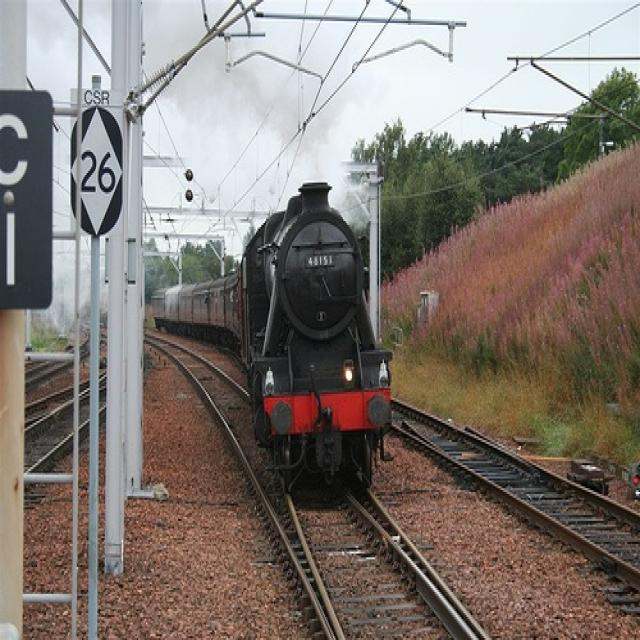train: (151, 179, 393, 494)
